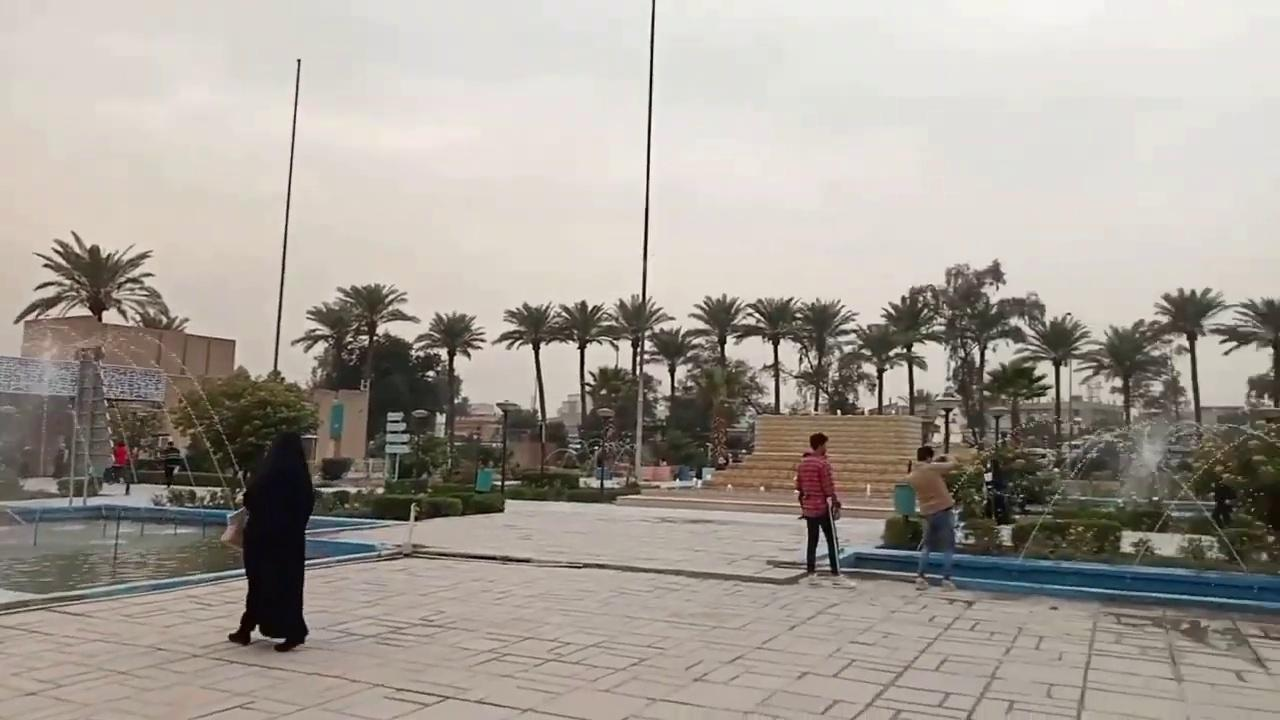car: (102, 455, 184, 484)
fountain: (1, 322, 411, 610), (835, 414, 1278, 604), (0, 491, 418, 611)
person: (227, 430, 315, 652), (903, 445, 960, 591), (794, 432, 842, 577), (986, 430, 1020, 525), (1210, 476, 1235, 528), (161, 439, 181, 487), (111, 438, 129, 484)
tree: (291, 256, 1278, 479), (908, 257, 1043, 446), (166, 364, 320, 489), (12, 228, 170, 326), (334, 281, 419, 460), (602, 292, 675, 480), (490, 300, 568, 472), (1144, 285, 1230, 425), (412, 309, 485, 473), (1011, 311, 1091, 446), (1076, 318, 1170, 426), (957, 293, 1025, 442), (1188, 426, 1279, 530), (550, 298, 616, 434), (733, 295, 804, 413), (879, 290, 943, 415), (837, 321, 921, 414), (791, 296, 857, 412), (1215, 294, 1279, 407), (687, 292, 748, 400), (604, 292, 675, 378), (290, 300, 356, 389), (583, 363, 634, 468), (982, 359, 1051, 436), (648, 323, 703, 402), (577, 407, 635, 480), (584, 364, 631, 410), (1157, 365, 1188, 421)
